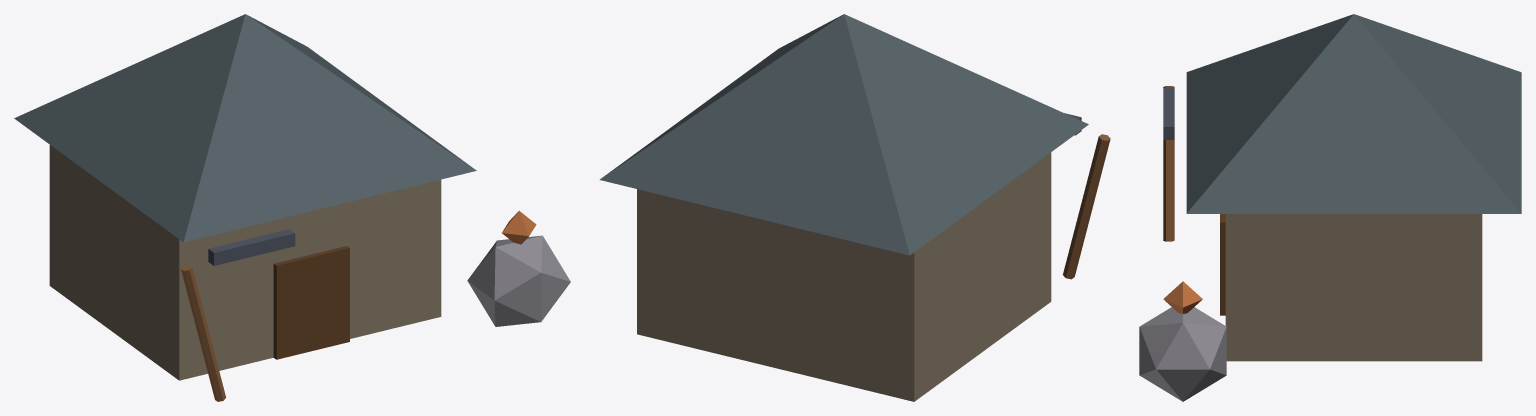
Rendered from geologist-hut.glb.
3 renders of one model, left to right at view 1: azimuth 30°, elevation 25°; view 2: azimuth 150°, elevation 25°; view 3: azimuth 270°, elevation 25°, orthographic. The views are drawn at different scales.
Visible parts, largest first — view 1: geologist_hut; view 2: geologist_hut; view 3: geologist_hut.
Part boxes in pixels (x1=…): geologist_hut: x1=14, y1=14, x2=570, y2=401; geologist_hut: x1=599, y1=14, x2=1110, y2=401; geologist_hut: x1=1139, y1=14, x2=1521, y2=401.
Size of the model in its own units: 0.3062 by 0.2218 by 0.2682.
